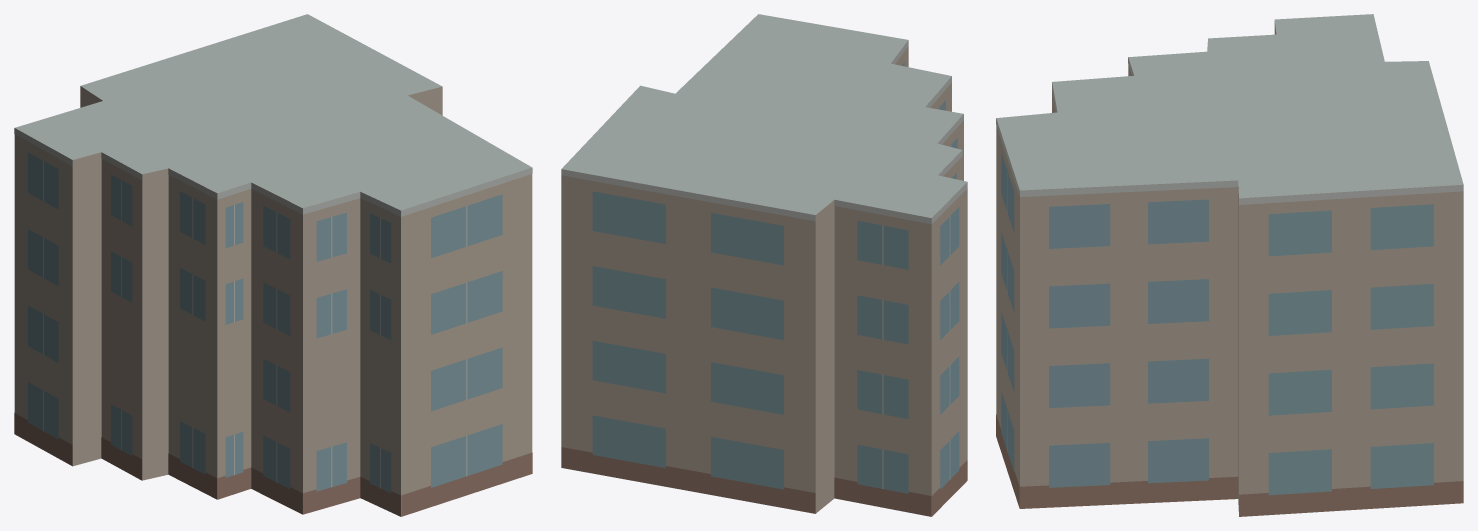
The model's file is survey-upis-32927922.glb.
The picture shows the model from 3 angles, left to right: view 1: azimuth 30°, elevation 25°; view 2: azimuth 150°, elevation 25°; view 3: azimuth 270°, elevation 25°; orthographic projection. The views are drawn at different scales.
Visible parts, largest first — view 1: survey-upis-32927922.tmp; view 2: survey-upis-32927922.tmp; view 3: survey-upis-32927922.tmp.
Part boxes in pixels (x1=…): survey-upis-32927922.tmp: x1=14, y1=14, x2=532, y2=516; survey-upis-32927922.tmp: x1=561, y1=14, x2=967, y2=516; survey-upis-32927922.tmp: x1=996, y1=14, x2=1463, y2=516.
Size of the model in its own units: 14.66 by 11.8 by 15.71.
